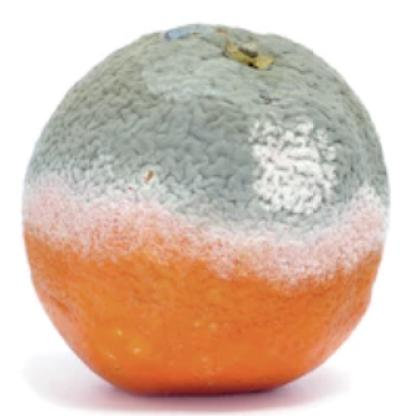rotten: (23, 23, 386, 396)
